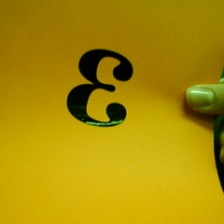orange3: (61, 44, 143, 128)
